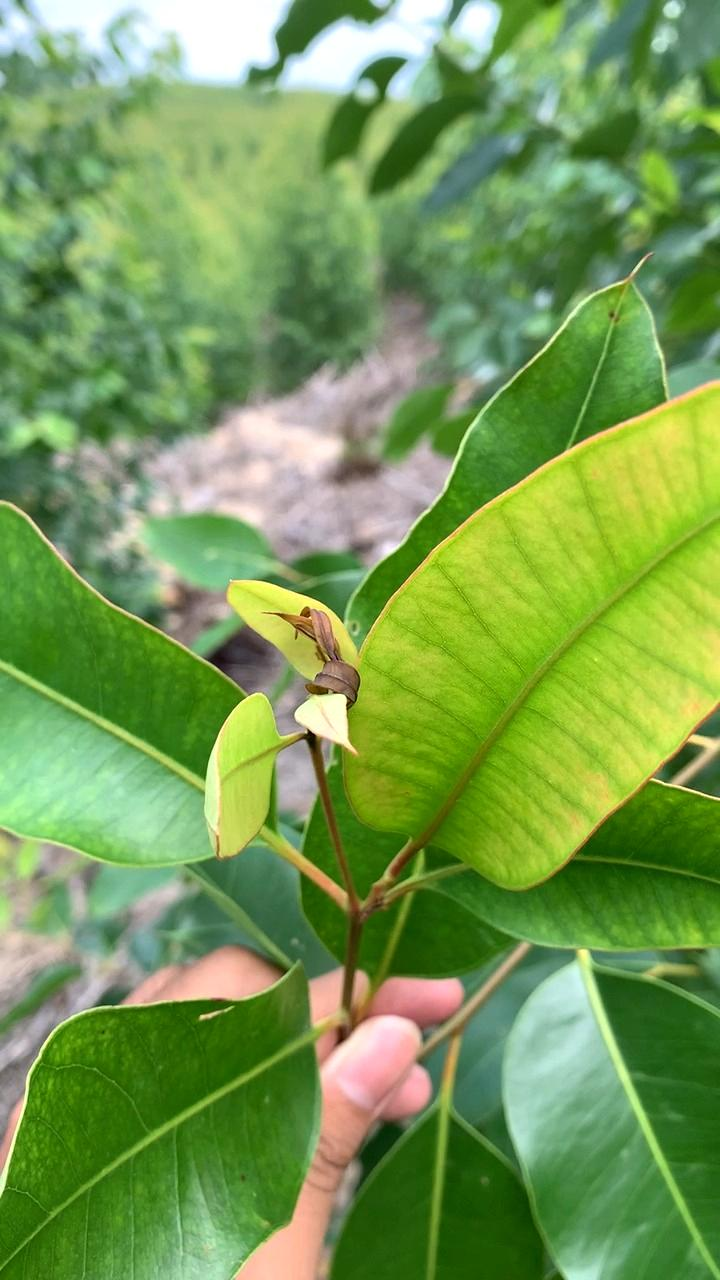Helopeltis-Withered Sprout: (256, 573, 405, 771)
